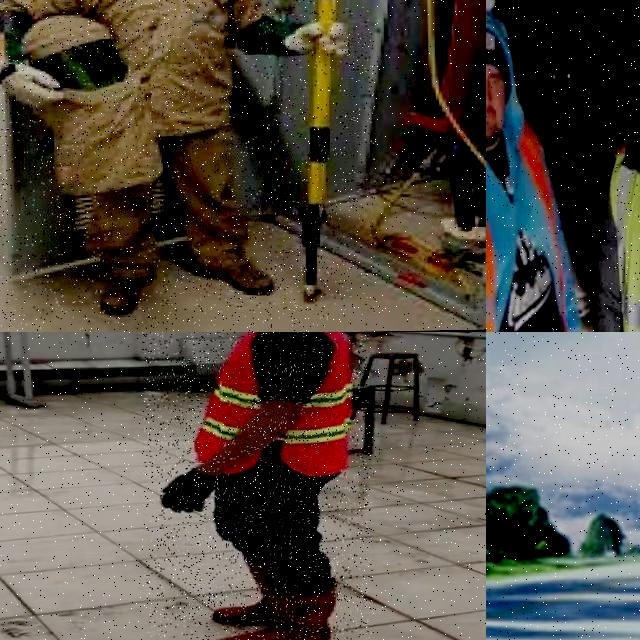boots: (206, 557, 313, 624), (214, 585, 334, 640), (92, 265, 164, 315), (207, 255, 283, 299)
vest: (188, 332, 355, 476), (486, 115, 570, 332)
